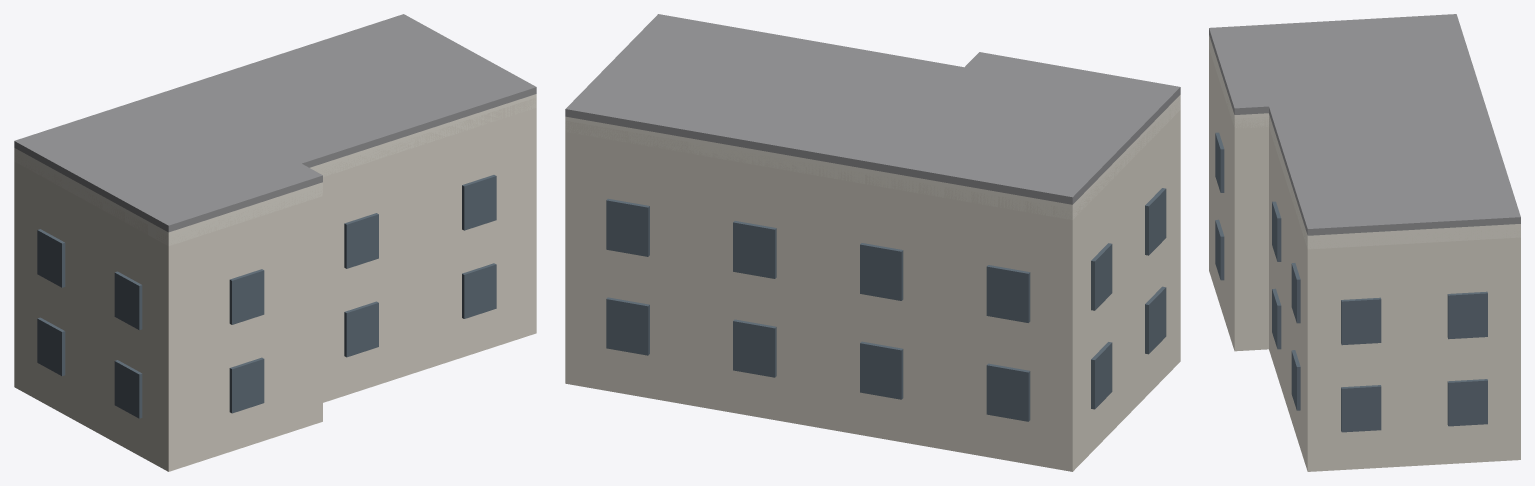
The model's file is s04_gis_248011_820793.glb.
The picture shows the model from 3 angles, left to right: view 1: azimuth 30°, elevation 25°; view 2: azimuth 150°, elevation 25°; view 3: azimuth 270°, elevation 25°; orthographic projection. The views are drawn at different scales.
Parts seen in each view (by area): view 1: mass, roofcap, cornice, win_4_0_0, win_4_1_0, win_0_0_0, win_0_0_1, win_0_1_0, win_0_1_1, win_3_0_0, win_3_0_1, win_3_1_1 (+1 smaller); view 2: mass, roofcap, cornice, win_2_0_3, win_2_1_3, win_2_0_0, win_2_0_1, win_2_0_2, win_2_1_0, win_2_1_1, win_2_1_2, win_3_0_1 (+3 smaller); view 3: mass, roofcap, cornice, win_1_0_1, win_1_0_0, win_1_1_1, win_1_1_0, win_0_1_0, win_4_0_0, win_0_0_0, win_0_0_1, win_0_1_1 (+1 smaller).
Part boxes in pixels (x1,y1,x2,y2): mass: (14,97,536,471); roofcap: (14,14,536,232); cornice: (14,94,536,245); win_4_0_0: (229,357,264,413); win_4_1_0: (229,269,264,324); win_0_0_0: (344,301,378,357); win_0_0_1: (462,263,496,318); win_0_1_0: (344,213,378,268); win_0_1_1: (462,175,496,230); win_3_0_0: (37,317,65,376); win_3_0_1: (114,360,142,418); win_3_1_1: (114,271,142,330); mass: (565,101,1180,471); roofcap: (565,14,1180,204); cornice: (565,95,1180,219); win_2_0_3: (986,363,1030,421); win_2_1_3: (986,265,1030,322); win_2_0_0: (606,297,649,355); win_2_0_1: (733,319,776,377); win_2_0_2: (860,341,903,399); win_2_1_0: (606,198,649,256); win_2_1_1: (733,221,776,278); win_2_1_2: (860,243,903,300); win_3_0_1: (1145,286,1166,354); mass: (1209,41,1520,471); roofcap: (1209,14,1520,235); cornice: (1209,35,1520,249); win_1_0_1: (1447,379,1487,426); win_1_0_0: (1341,385,1381,432); win_1_1_1: (1447,291,1487,339); win_1_1_0: (1341,297,1381,345); win_0_1_0: (1272,201,1281,261); win_4_0_0: (1215,219,1224,280); win_0_0_0: (1272,288,1281,349); win_0_0_1: (1291,350,1300,410); win_0_1_1: (1291,263,1300,323).
Size of the model in its own units: 15.86 by 8.35 by 9.72.
